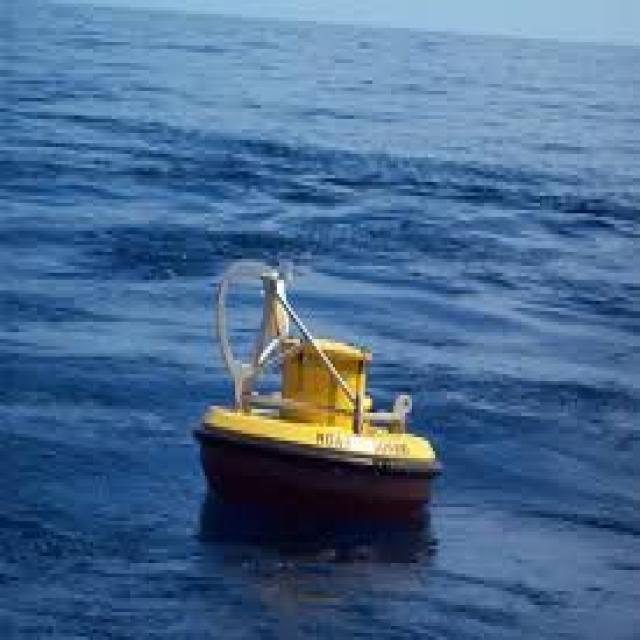2.4 safe water mark: (182, 248, 445, 538)
